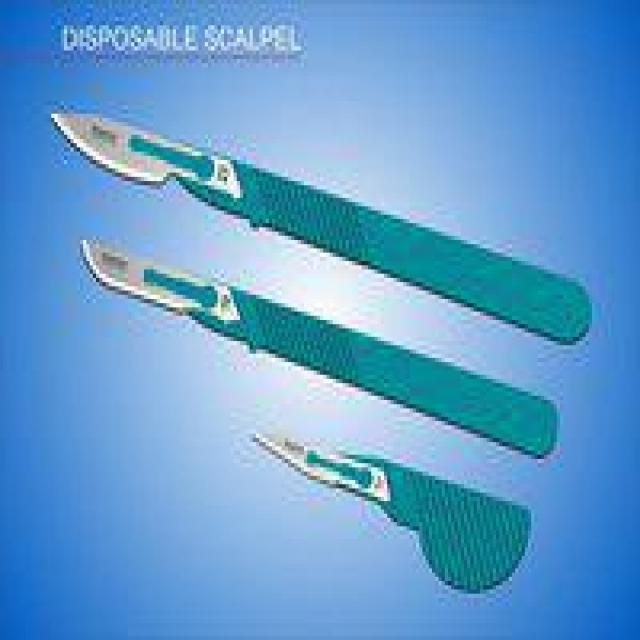B3: (48, 106, 595, 350), (80, 236, 560, 459), (252, 429, 538, 598)
